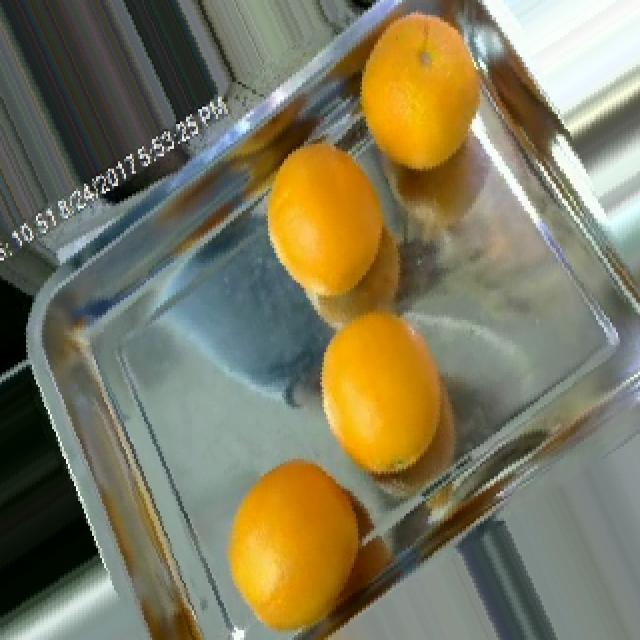Fruit: (238, 122, 418, 350), (298, 293, 474, 506), (206, 439, 392, 640), (0, 454, 120, 640)
